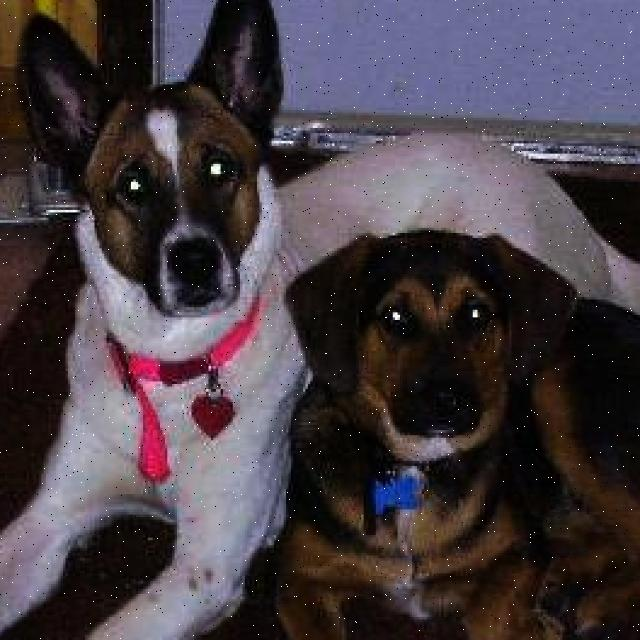Dog: (0, 0, 296, 343), (0, 0, 291, 338), (297, 219, 574, 471)
